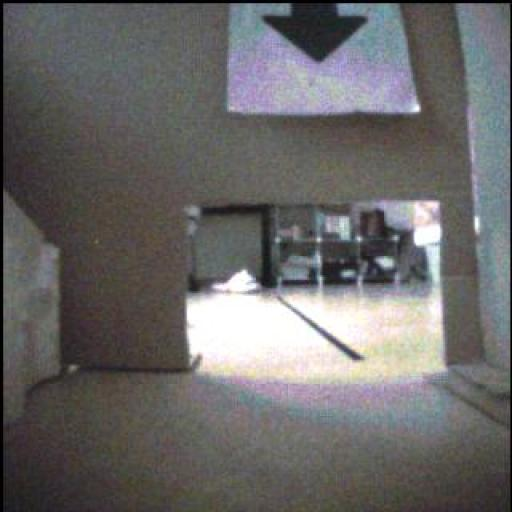arrow: (264, 5, 368, 64)
